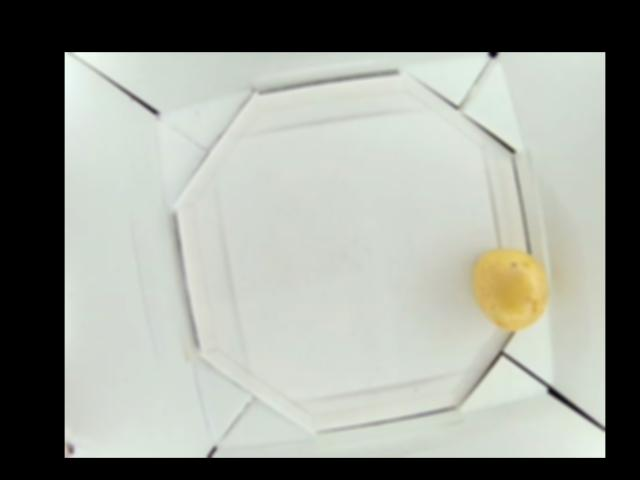Potato: (473, 244, 549, 333)
